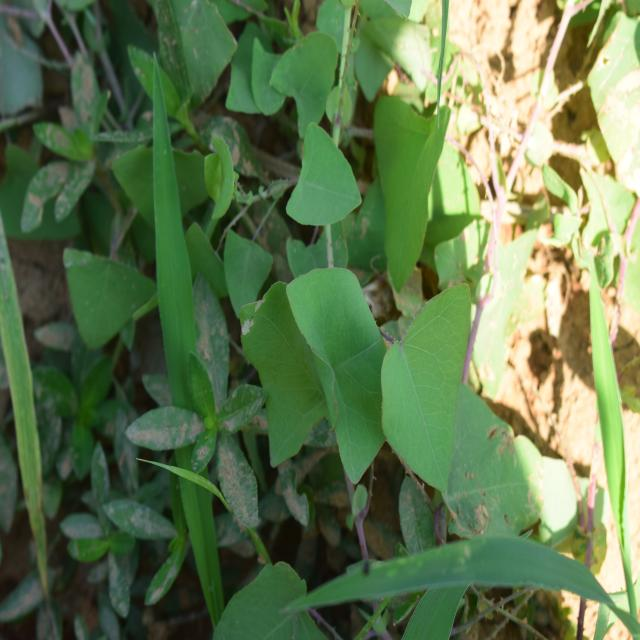Asiatic_Smartweed: (242, 252, 482, 519), (229, 51, 472, 280), (57, 224, 161, 348)
